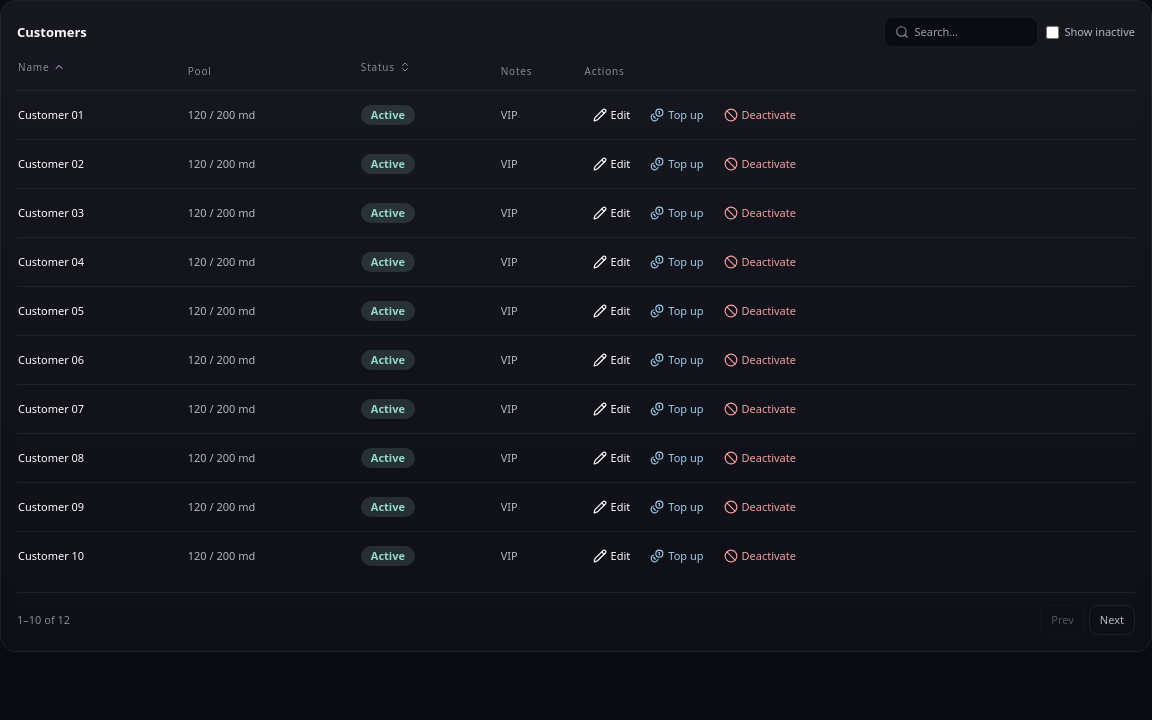
it: CustomersTable › paginates: 12 rows → prev/next navigation
Expected: the text "Customer 01" is shown, [17,90,187,140]
Expected: the text "1–10 of 12" is shown, [17,610,70,630]
// Go to page 2
Click the button "Next".
click(1112, 620)  # box [1089,605,1135,635]
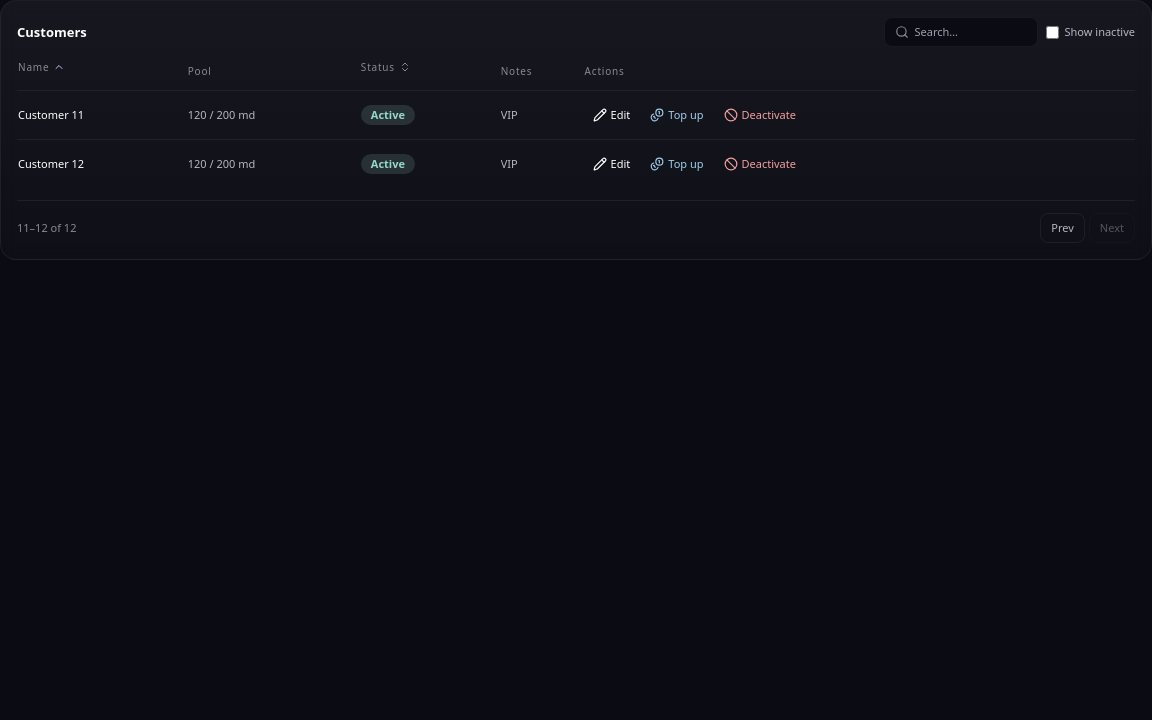
Result: the text "Customer 11" is shown at [17,90,187,140]
Result: the text "11–12 of 12" is shown at [17,218,76,238]
Result: the text "Customer 01" is gone
Click the button "Prev".
click(1063, 228)  # box [1040,213,1085,243]
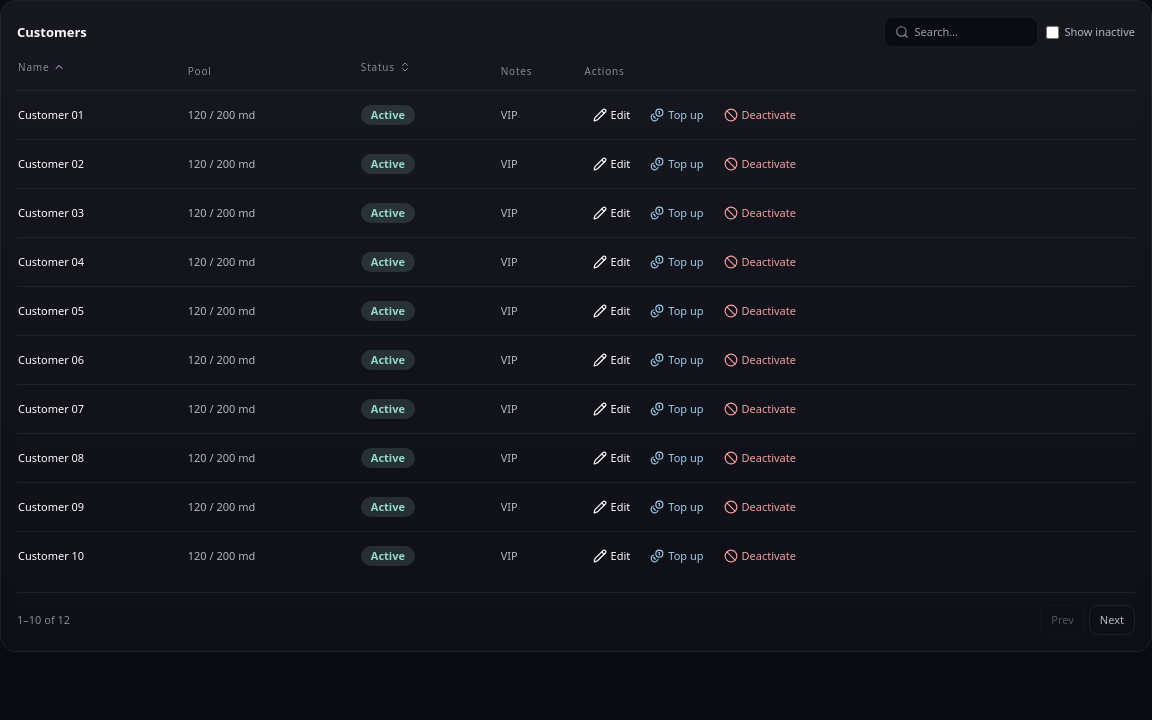
Result: the text "1–10 of 12" is shown at [17,610,70,630]
